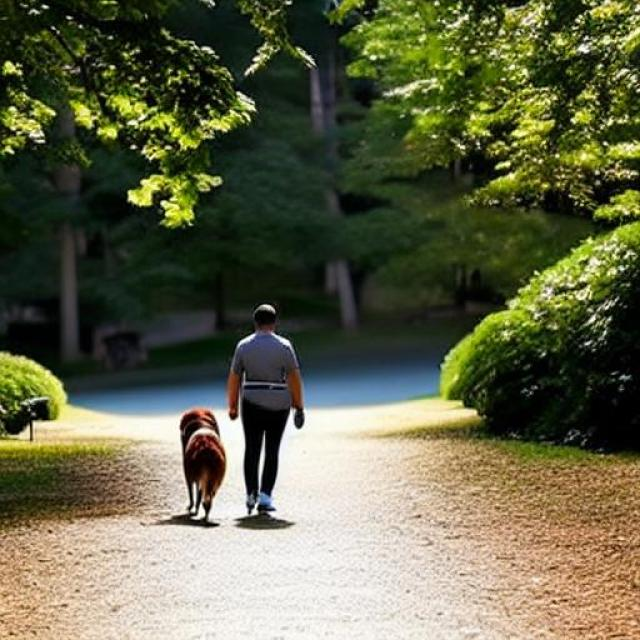Unleashed_Dog: (178, 395, 290, 513)
